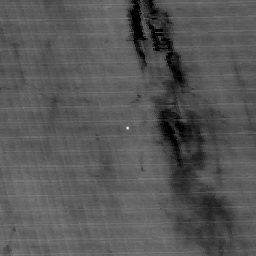Target: (124, 124, 130, 131)
